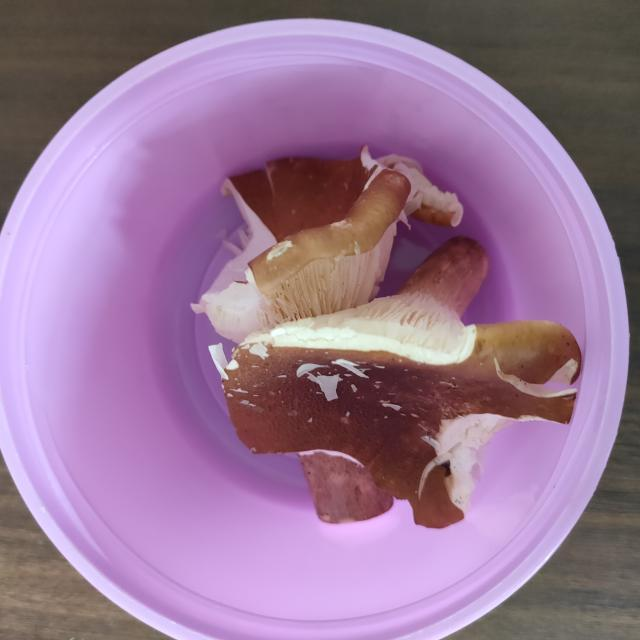Clitocybe maxima: (216, 237, 582, 528), (201, 155, 460, 535)
